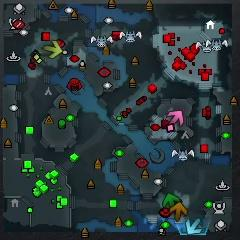x1: (167, 110, 183, 126)
x2: (45, 40, 62, 58)
x3: (186, 219, 201, 234)
x4: (163, 192, 180, 207)
x5: (171, 203, 187, 221)
